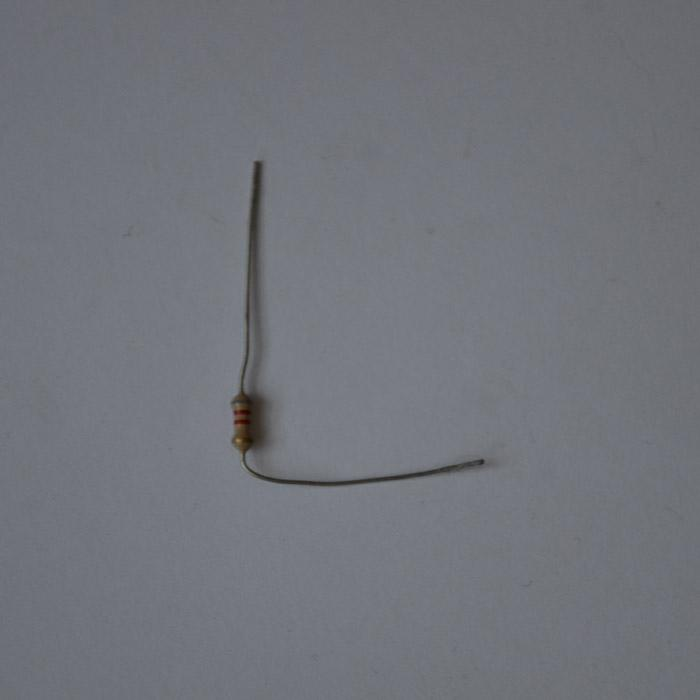resistor: (229, 393, 254, 451)
